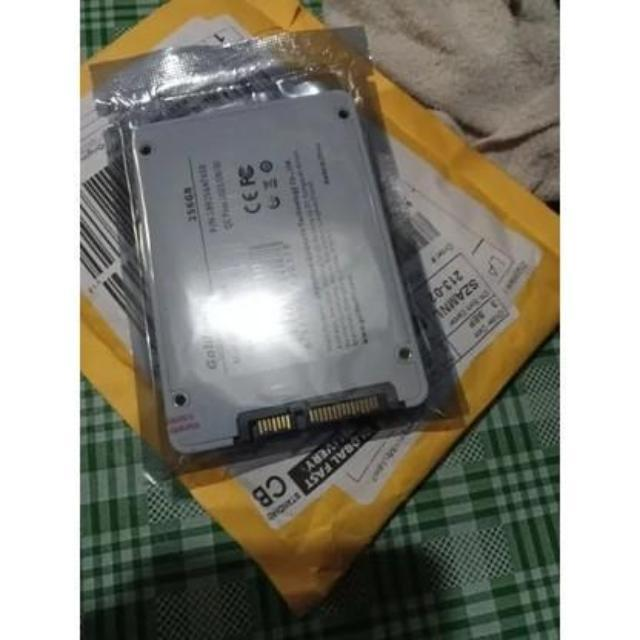DISK: (123, 83, 429, 454)
